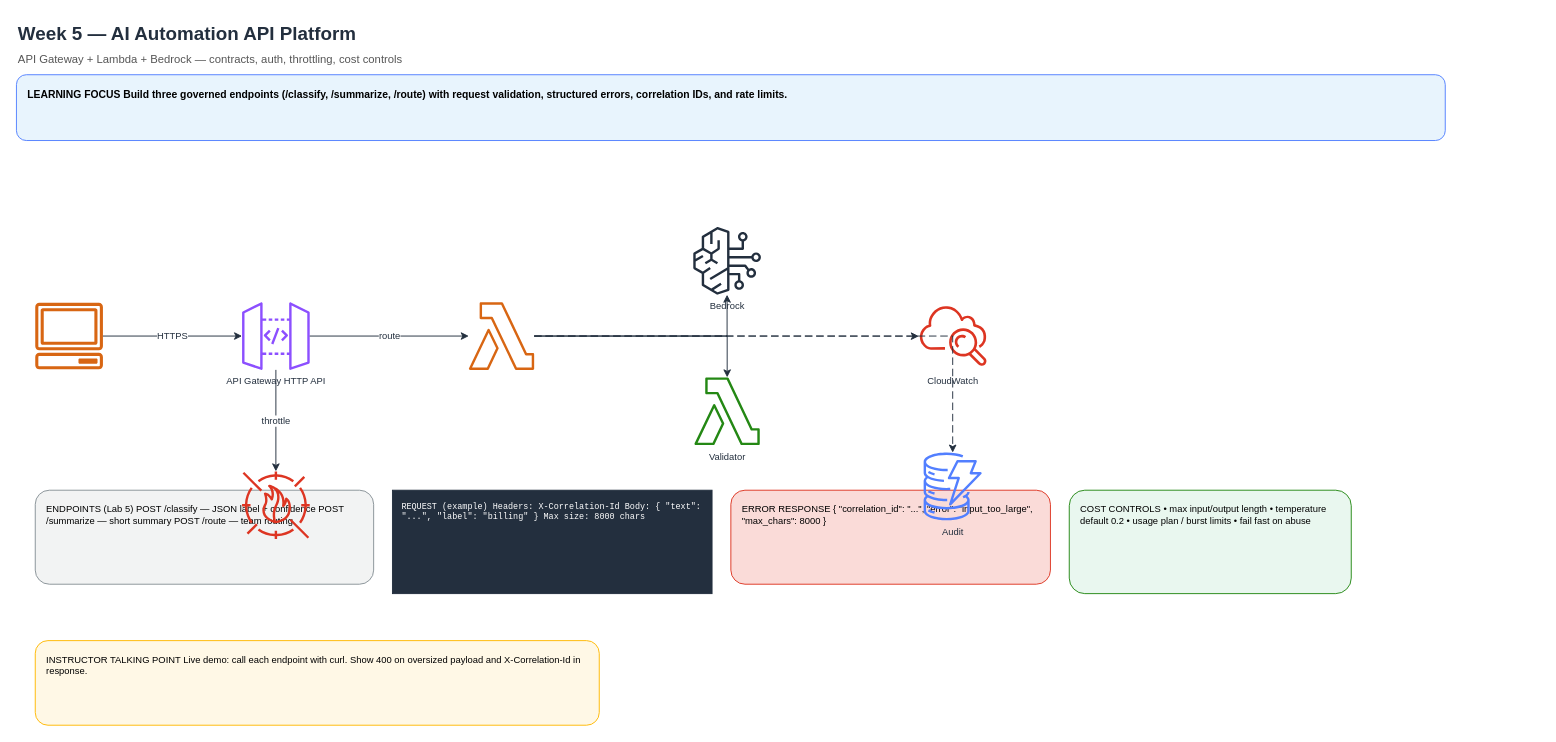
Image size: 1556x742. Some labels were removed from this diagram. Here are the shapes that lost their labels. From the top down, the centre of each, then its label:
point 68,335: Internal Apps
point 501,335: Lambda
point 275,504: Usage Plan 10 rps limit
